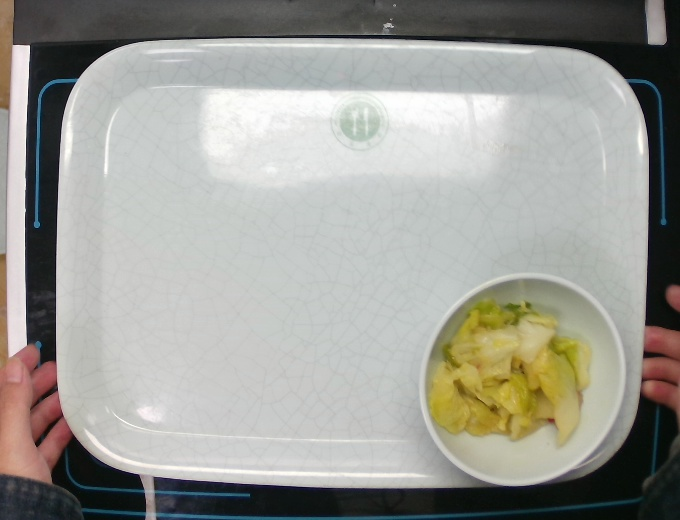JYsf-Fan_Wan: (411, 265, 628, 491)
